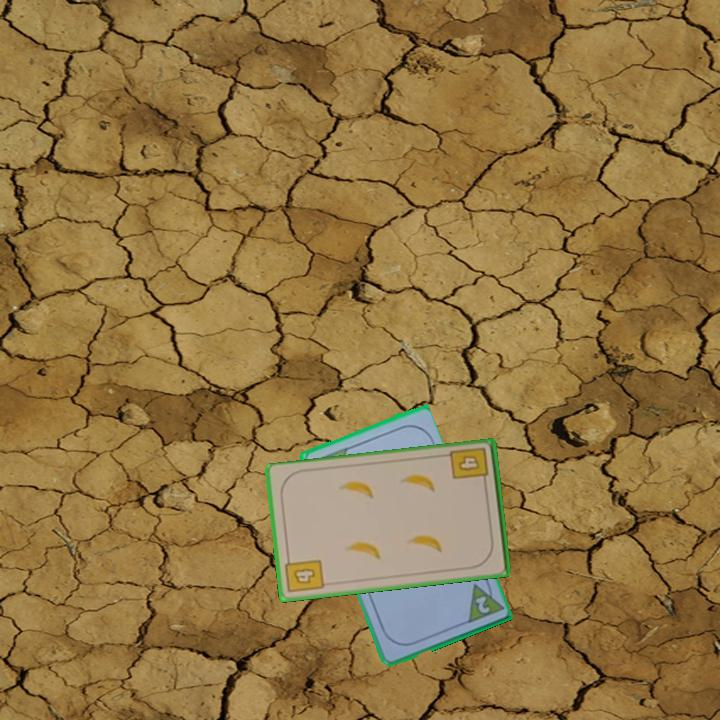2p: (462, 575, 505, 626)
4b: (282, 552, 327, 596), (447, 444, 492, 488)
